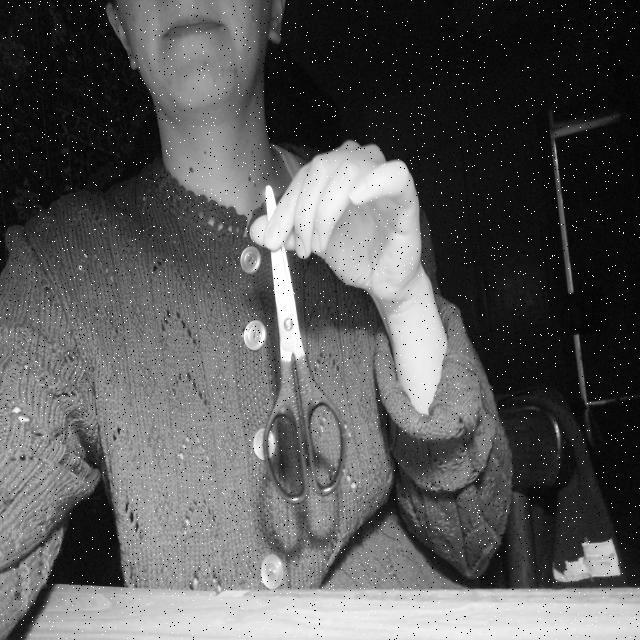scissors: (261, 182, 349, 507)
